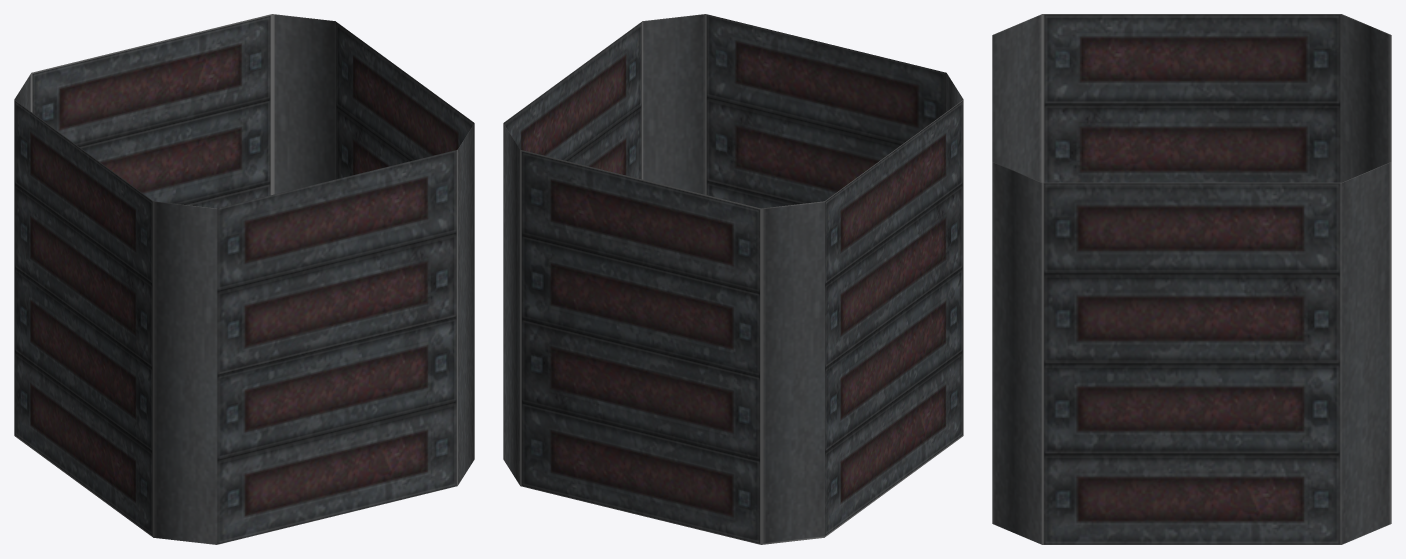
The model's file is CubeBaseFrontColumn5Bottom.fbx.
The picture shows the model from 3 angles, left to right: view 1: azimuth 30°, elevation 25°; view 2: azimuth 150°, elevation 25°; view 3: azimuth 270°, elevation 25°; orthographic projection. The views are drawn at different scales.
Parts seen in each view (by area): view 1: pCube1; view 2: pCube1; view 3: pCube1.
Part boxes in pixels (x1,y1,x2,y2): pCube1: (14, 14, 474, 544); pCube1: (503, 14, 963, 544); pCube1: (992, 14, 1391, 544).
Bounding box in the file's own units: 1 × 1 × 1.
Materials: 1 (1 with a texture image).
